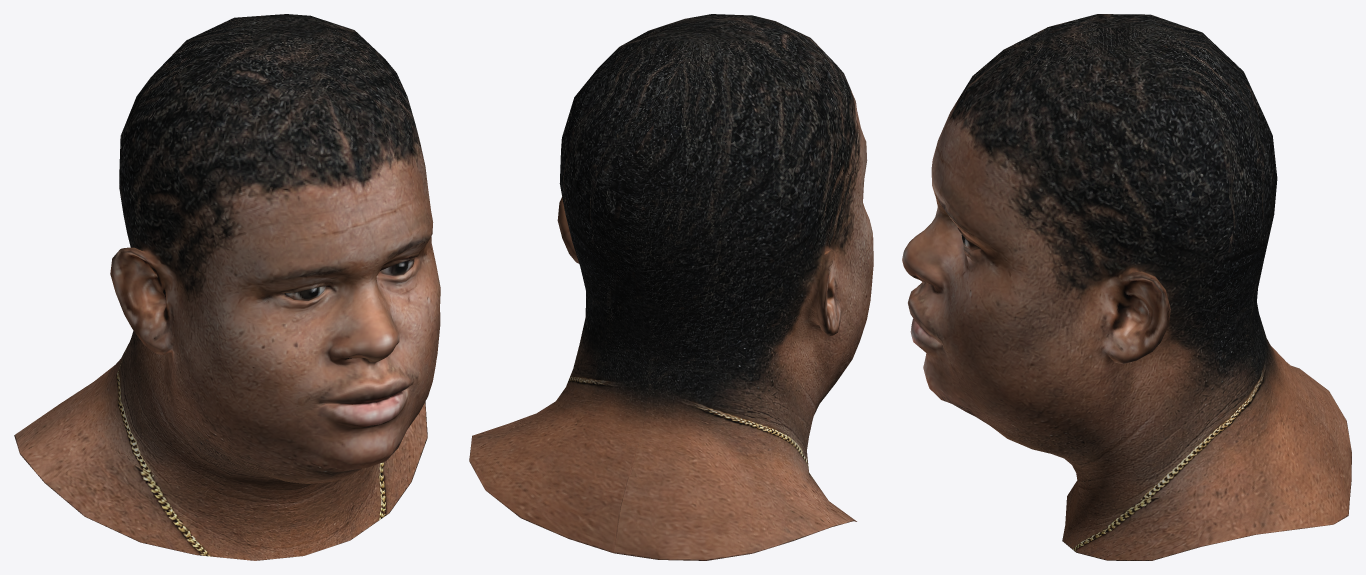
The picture shows the model from 3 angles, left to right: view 1: azimuth 30°, elevation 25°; view 2: azimuth 150°, elevation 25°; view 3: azimuth 270°, elevation 25°; orthographic projection. The views are drawn at different scales.
Parts seen in each view (by area): view 1: Lowpoly Head; view 2: Lowpoly Head; view 3: Lowpoly Head.
Boxes of the visible parts, bbox=[...] form: Lowpoly Head: bbox=[14, 14, 440, 560]; Lowpoly Head: bbox=[469, 14, 873, 560]; Lowpoly Head: bbox=[902, 14, 1351, 560].
Size of the model in its own units: 23.38 by 29.87 by 24.47.
Materials: 1 (1 with a texture image).
